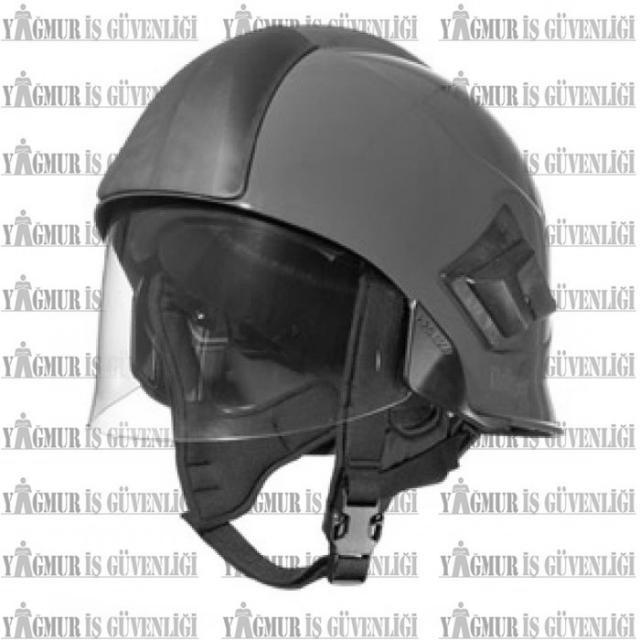safety_helmet: (92, 29, 563, 591)
